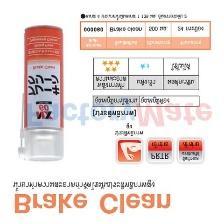aerosol_cans: (15, 22, 66, 163)
